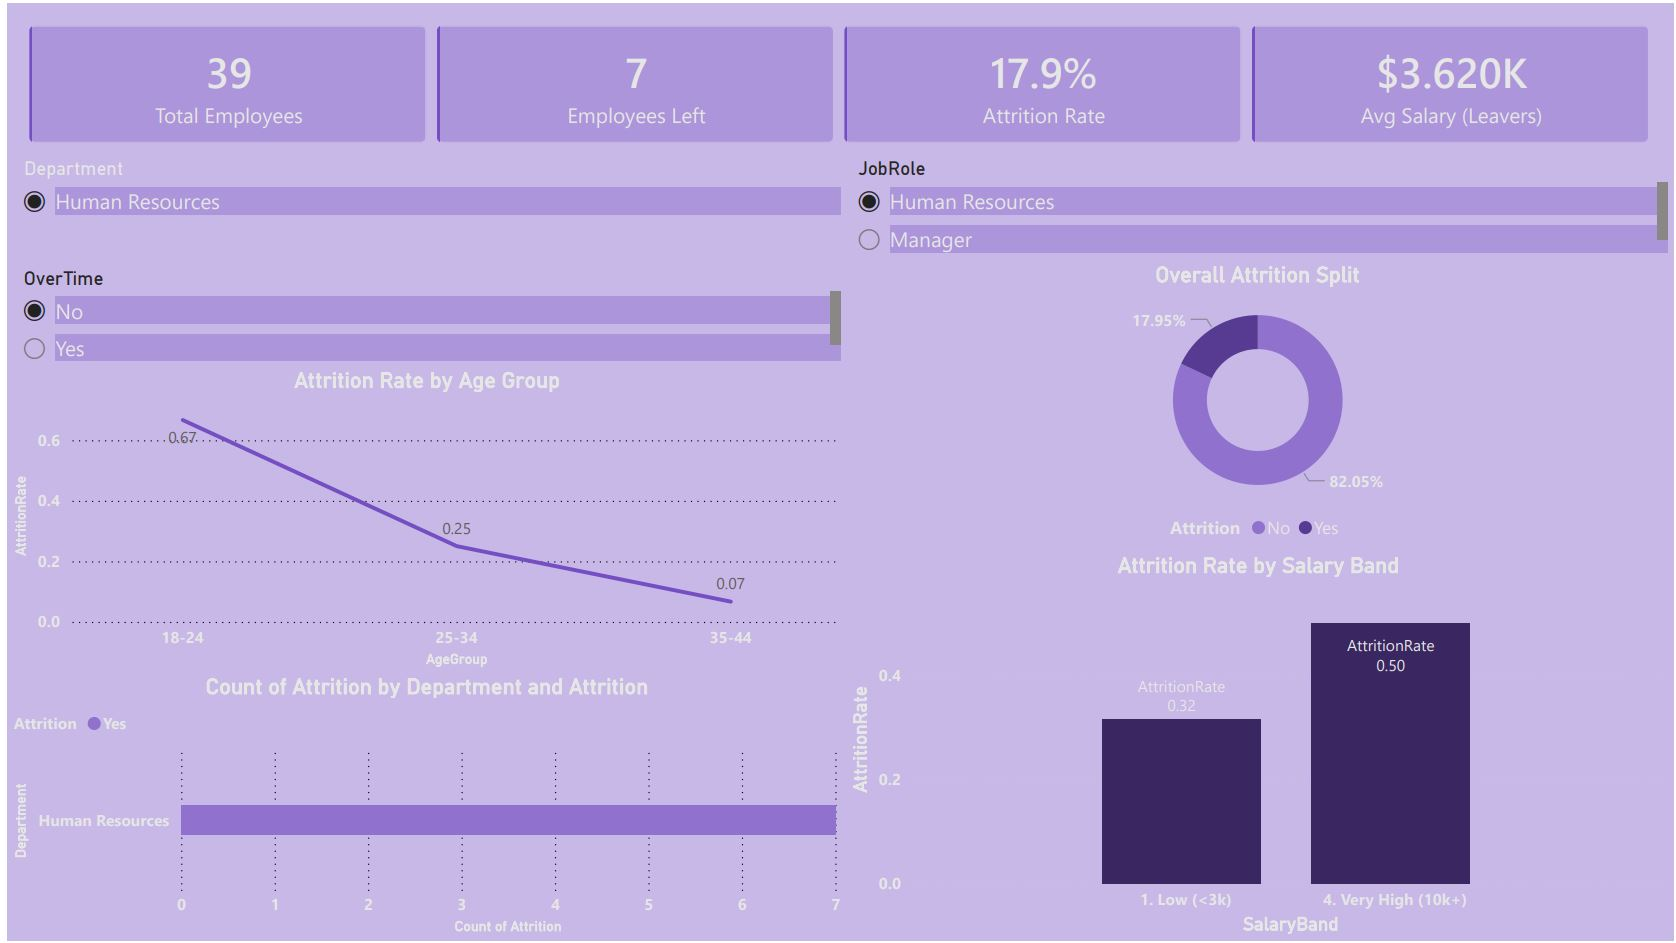

What the dashboard file says about the page in this screenshot:
{"tool":"powerbi","page":{"name":"Page 1","canvas":[1280,720],"ordinal":0},"visuals":[{"type":"cardVisual","fields":{"Data":["WA_Fn-UseC_-HR-Employee-Attrition.Total","WA_Fn-UseC_-HR-Employee-Attrition.Left","WA_Fn-UseC_-HR-Employee-Attrition.AttritionRate","WA_Fn-UseC_-HR-Employee-Attrition.AvgSalaryLeft"]},"box":[0,0,1279.8,124.9],"z":0},{"type":"barChart","fields":{"Category":["WA_Fn-UseC_-HR-Employee-Attrition.Department"],"Y":["CountNonNull(WA_Fn-UseC_-HR-Employee-Attrition.Attrition)"],"Series":["WA_Fn-UseC_-HR-Employee-Attrition.Attrition"]},"box":[0,514.3,645.1,205.1],"z":1},{"type":"clusteredColumnChart","title":"Attrition Rate by Salary Band","fields":{"Category":["WA_Fn-UseC_-HR-Employee-Attrition.SalaryBand"],"Y":["WA_Fn-UseC_-HR-Employee-Attrition.AttritionRate"]},"box":[642.1,420.7,637.7,298.8],"z":2},{"type":"slicer","fields":{"Values":["WA_Fn-UseC_-HR-Employee-Attrition.Department"]},"box":[0,114.5,645.1,83.2],"z":3},{"type":"donutChart","title":"Overall Attrition Split","fields":{"Y":["CountNonNull(WA_Fn-UseC_-HR-Employee-Attrition.EmployeeNumber)"],"Category":["WA_Fn-UseC_-HR-Employee-Attrition.Attrition"]},"box":[640.6,197.7,639.2,223],"z":4},{"type":"slicer","fields":{"Values":["WA_Fn-UseC_-HR-Employee-Attrition.JobRole"]},"box":[640.6,114.5,639.2,83.2],"z":5},{"type":"slicer","fields":{"Values":["WA_Fn-UseC_-HR-Employee-Attrition.OverTime"]},"box":[0,197.7,645.1,81.8],"z":6},{"type":"lineChart","title":"Attrition Rate by Age Group","fields":{"Category":["WA_Fn-UseC_-HR-Employee-Attrition.AgeGroup"],"Y":["WA_Fn-UseC_-HR-Employee-Attrition.AttritionRate"]},"box":[0,279.4,645.1,234.9],"z":7}]}

Visuals, with their boxes in screenshot pixels (x1, y1, x2, y2), scaled from the page's 1280x720 canvas onto the 1676x943 screenshot:
cardVisual - WA_Fn-UseC_-HR-Employee-Attrition.Total x WA_Fn-UseC_-HR-Employee-Attrition.Left: (0, 0, 1675, 164)
barChart - WA_Fn-UseC_-HR-Employee-Attrition.Department x CountNonNull(WA_Fn-UseC_-HR-Employee-Attrition.Attrition): (0, 674, 845, 942)
"Attrition Rate by Salary Band" clusteredColumnChart: (841, 551, 1675, 942)
slicer - WA_Fn-UseC_-HR-Employee-Attrition.Department: (0, 150, 845, 259)
"Overall Attrition Split" donutChart: (839, 259, 1675, 551)
slicer - WA_Fn-UseC_-HR-Employee-Attrition.JobRole: (839, 150, 1675, 259)
slicer - WA_Fn-UseC_-HR-Employee-Attrition.OverTime: (0, 259, 845, 366)
"Attrition Rate by Age Group" lineChart: (0, 366, 845, 674)
